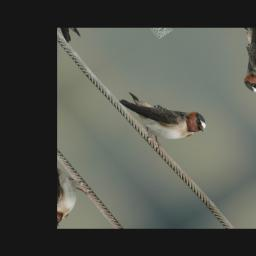Swallow: (113, 68, 215, 160)
